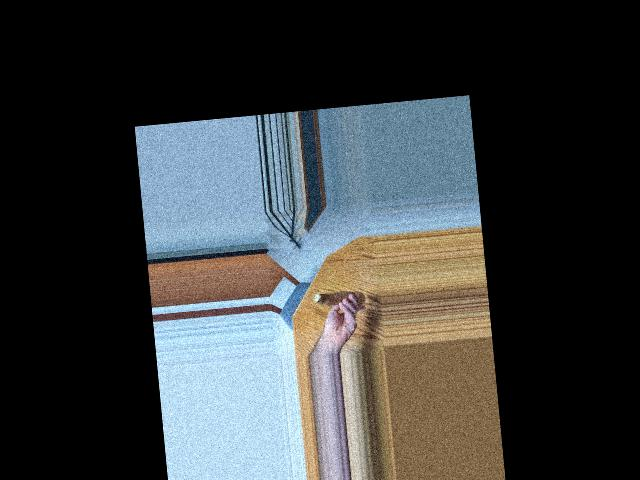sweet_potato: (311, 291, 356, 306)
